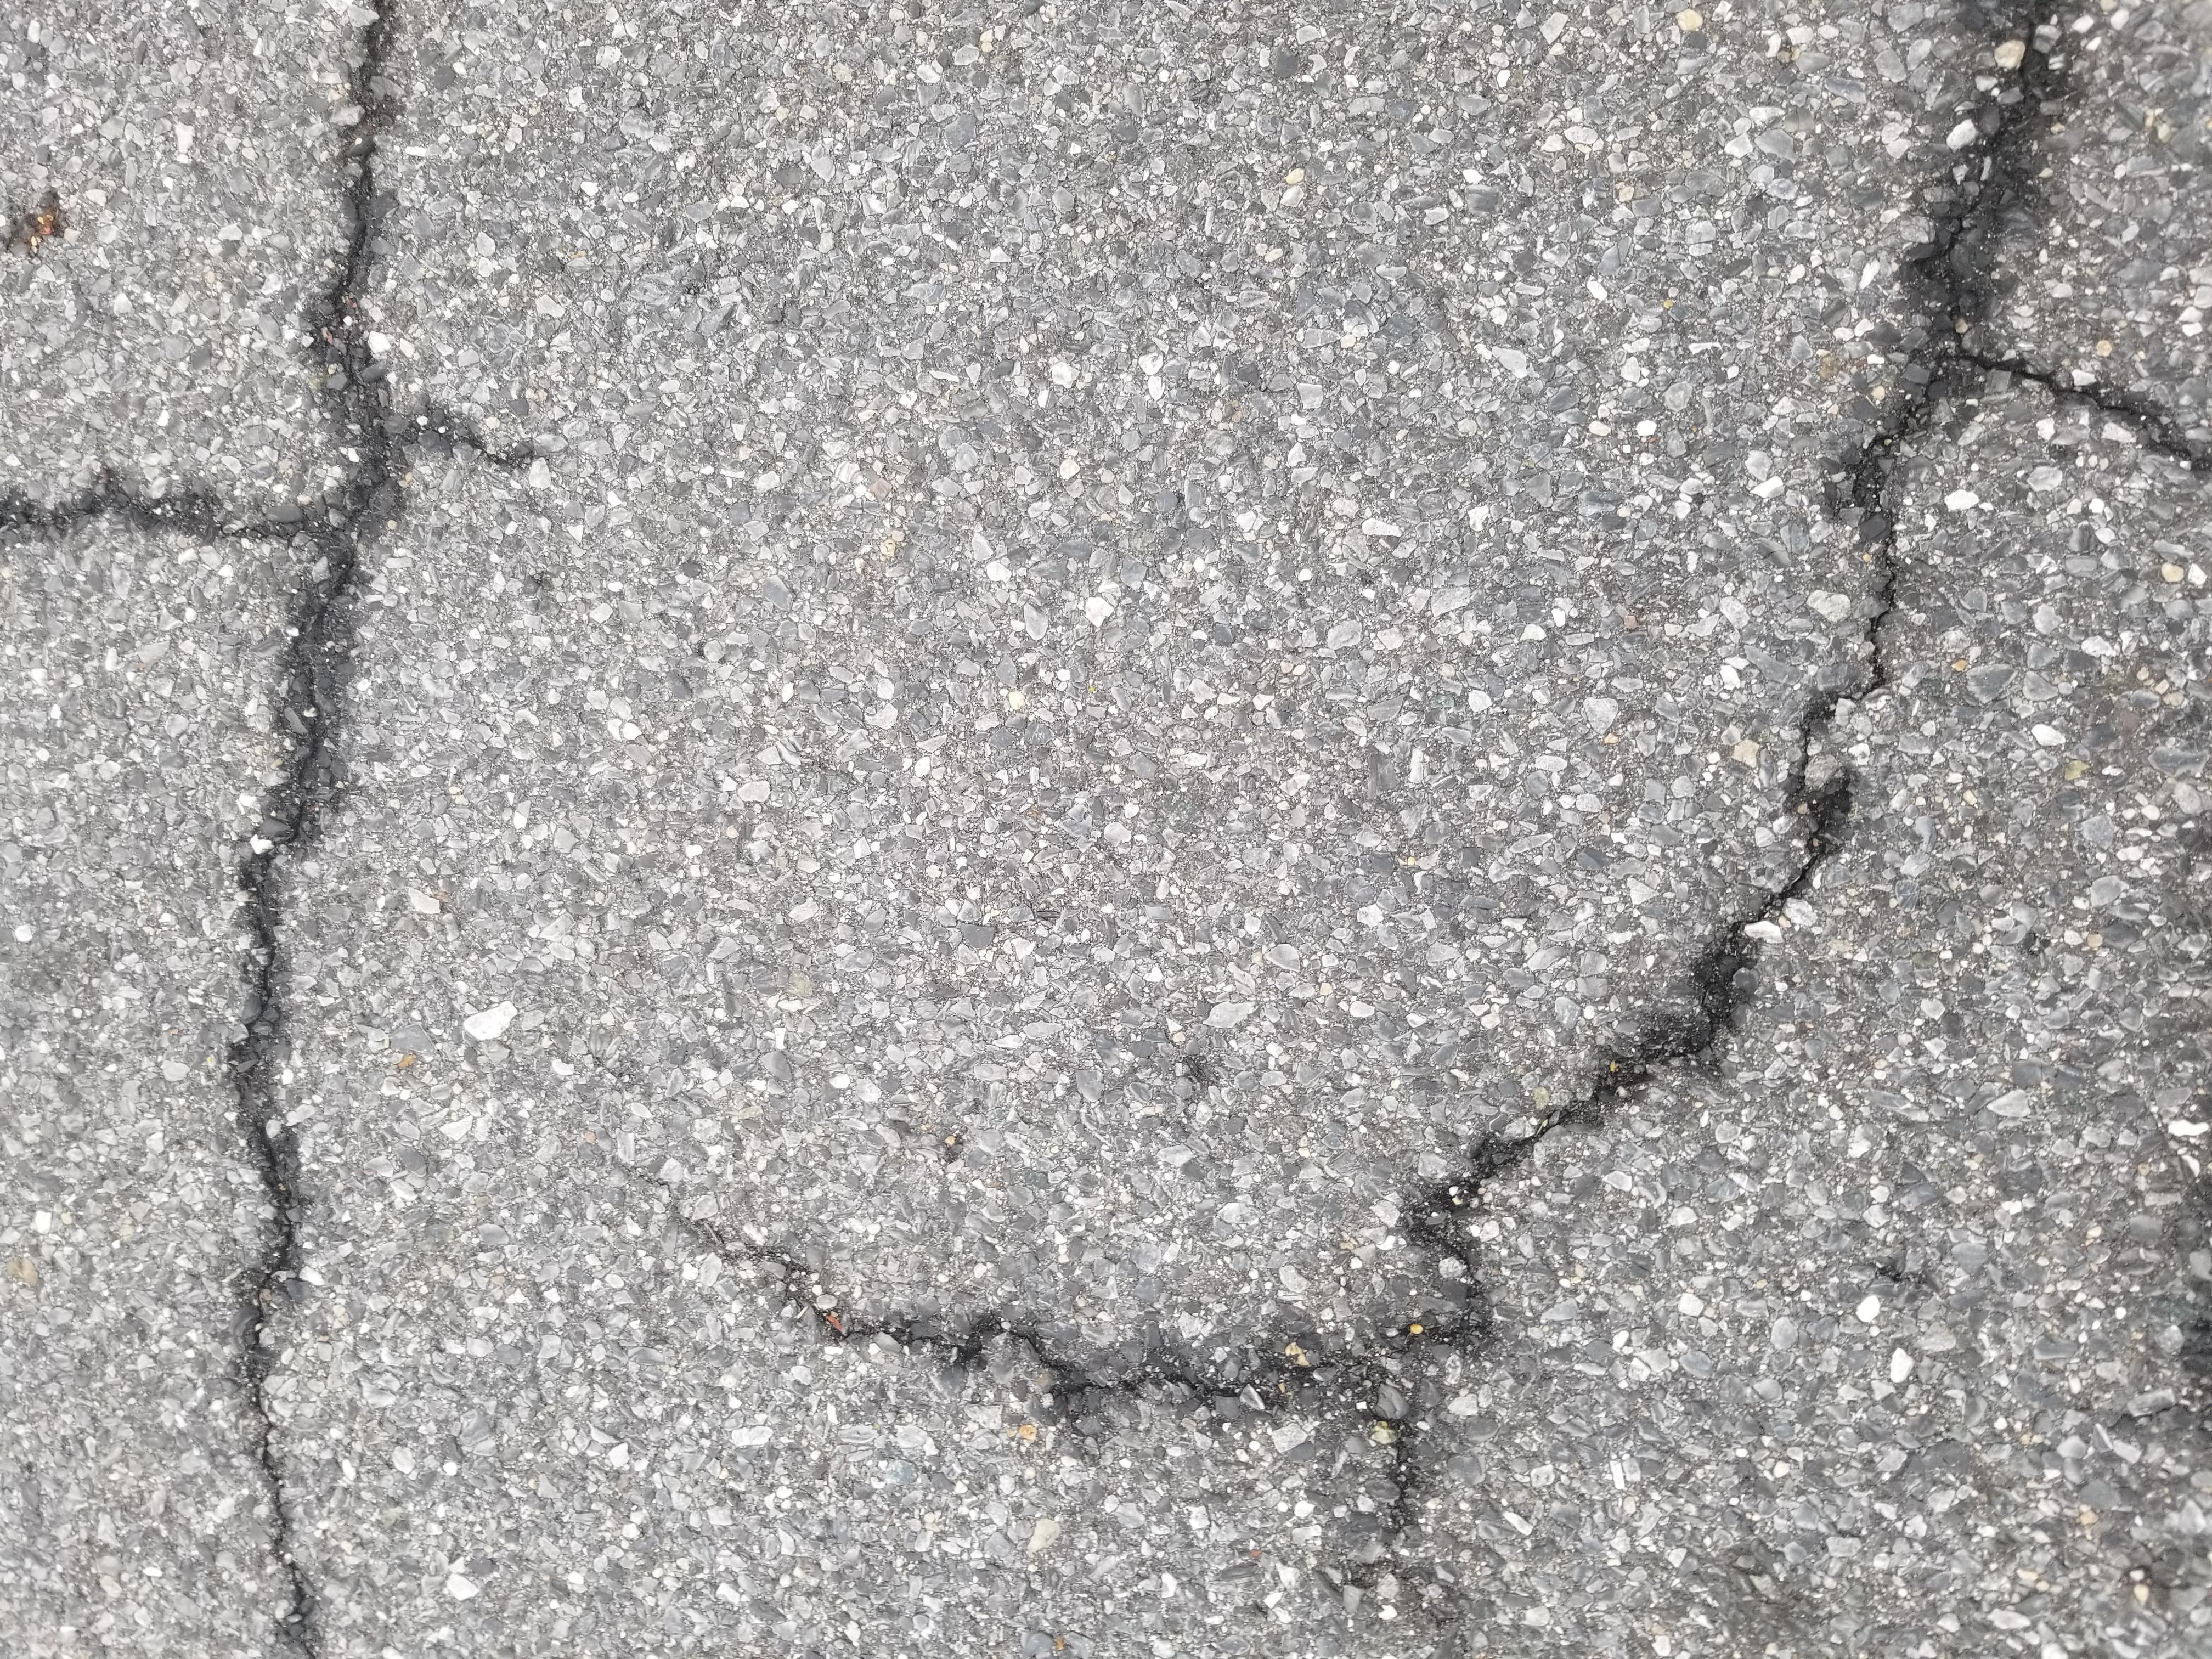crack: (322, 490, 2071, 1659), (14, 115, 2212, 369)
